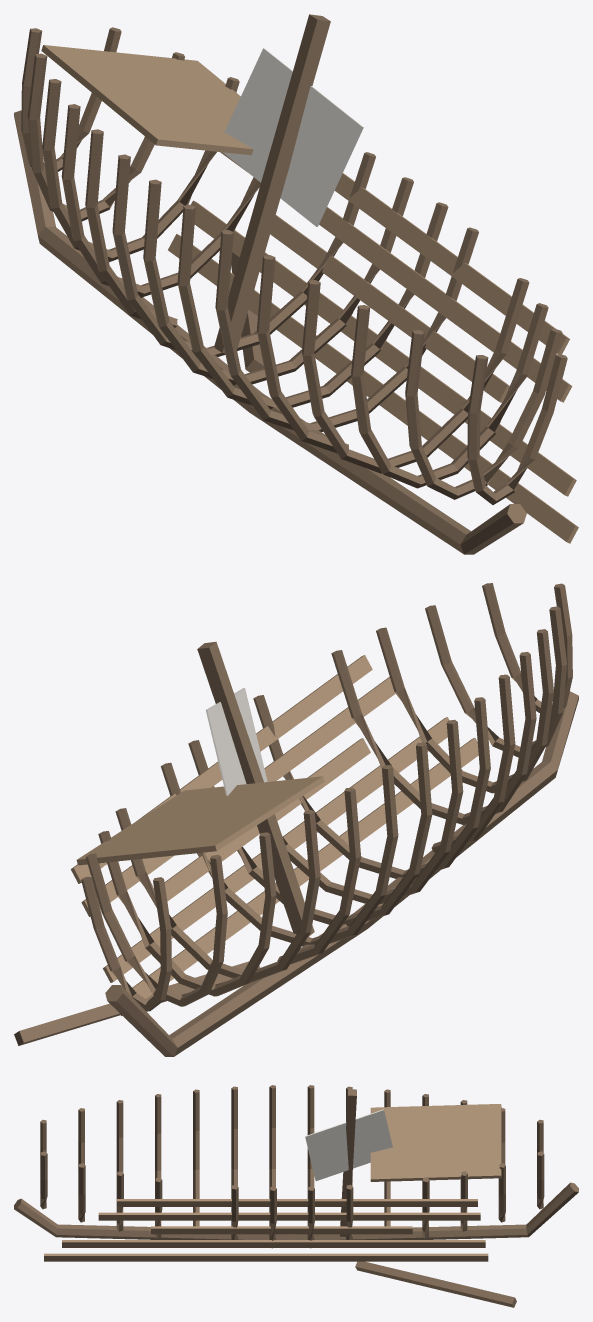
File: shipwreck.glb
The picture shows the model from 3 angles, top to bottom: view 1: azimuth 30°, elevation 25°; view 2: azimuth 150°, elevation 25°; view 3: azimuth 270°, elevation 25°; orthographic projection. The views are drawn at different scales.
Visible parts, largest first — view 1: shipwreck; view 2: shipwreck; view 3: shipwreck.
Boxes of the visible parts, x1,y1,x2,y2 form: shipwreck: (14,14,578,554); shipwreck: (14,583,578,1056); shipwreck: (14,1085,578,1307).
Size of the model in its own units: 6.99 by 8.41 by 21.61.
